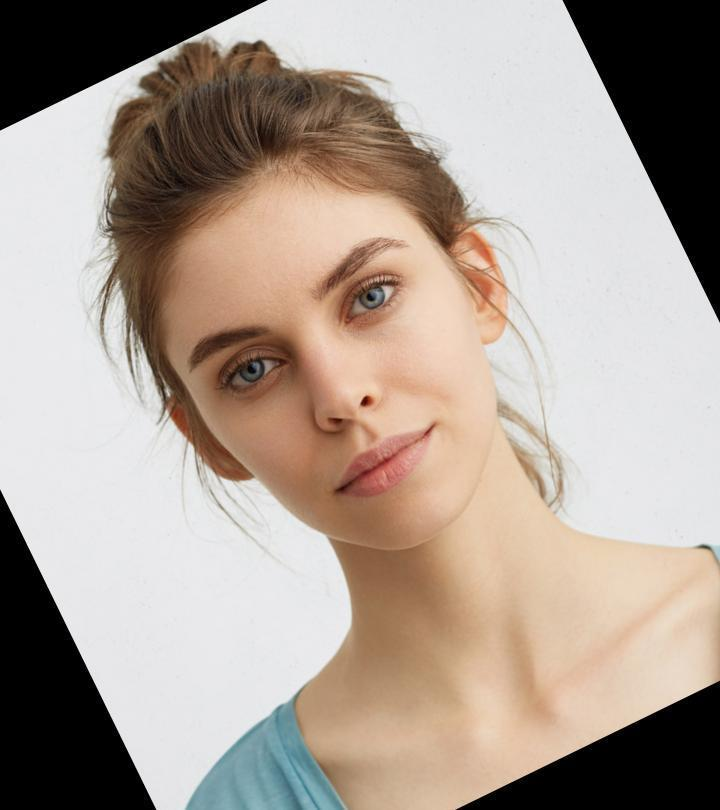Sober: (206, 190, 474, 515)
